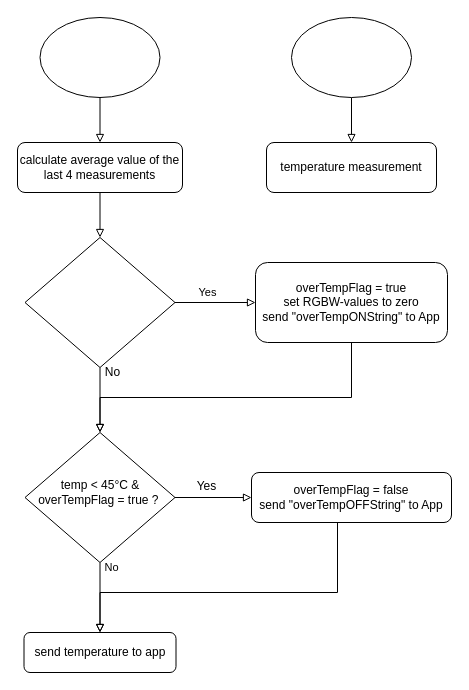
Some shapes in this 469 by 690 pixel diagram are drawn without their labels. Here are the shapes that lost their labels. From the top down, the centre of each, then its label:
At point 99,57: "time-out Interrupt (1s)".
At point 351,57: "time-out Interrupt (250ms)".
At point 99,302: "temp > 50°C & overTempFlag = false ?".
